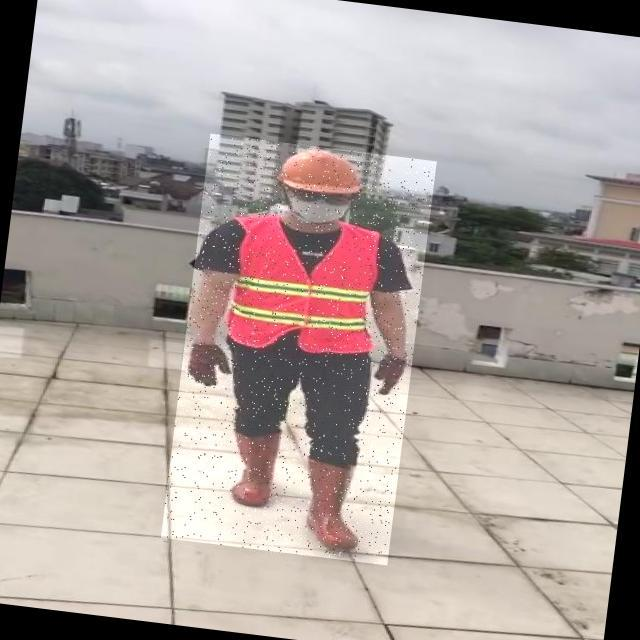Gloves: (187, 342, 232, 389), (374, 352, 407, 395)
Helmet: (275, 144, 368, 198)
Human: (161, 133, 437, 565)
Safety Boot: (294, 453, 375, 554), (222, 430, 277, 510)
Safety Vest: (223, 210, 384, 357)
